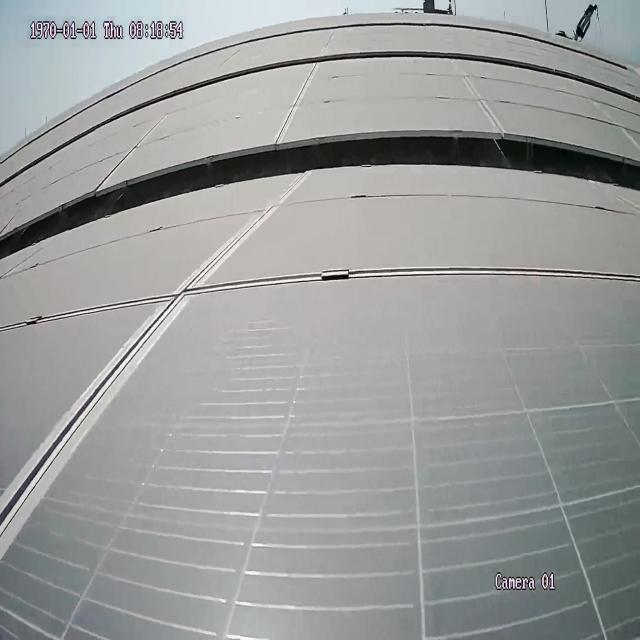interior panel: (0, 180, 627, 559), (274, 66, 316, 140), (455, 69, 502, 122)
outher panel: (3, 135, 636, 259)
